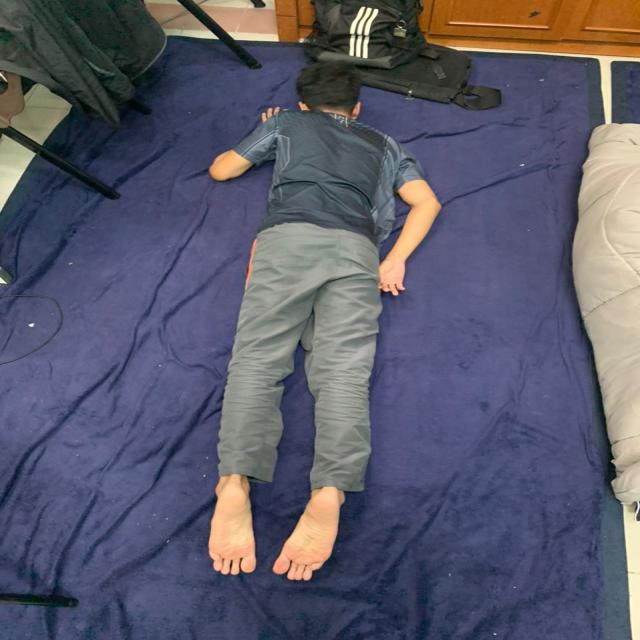Fall-Detected: (200, 63, 445, 581)
